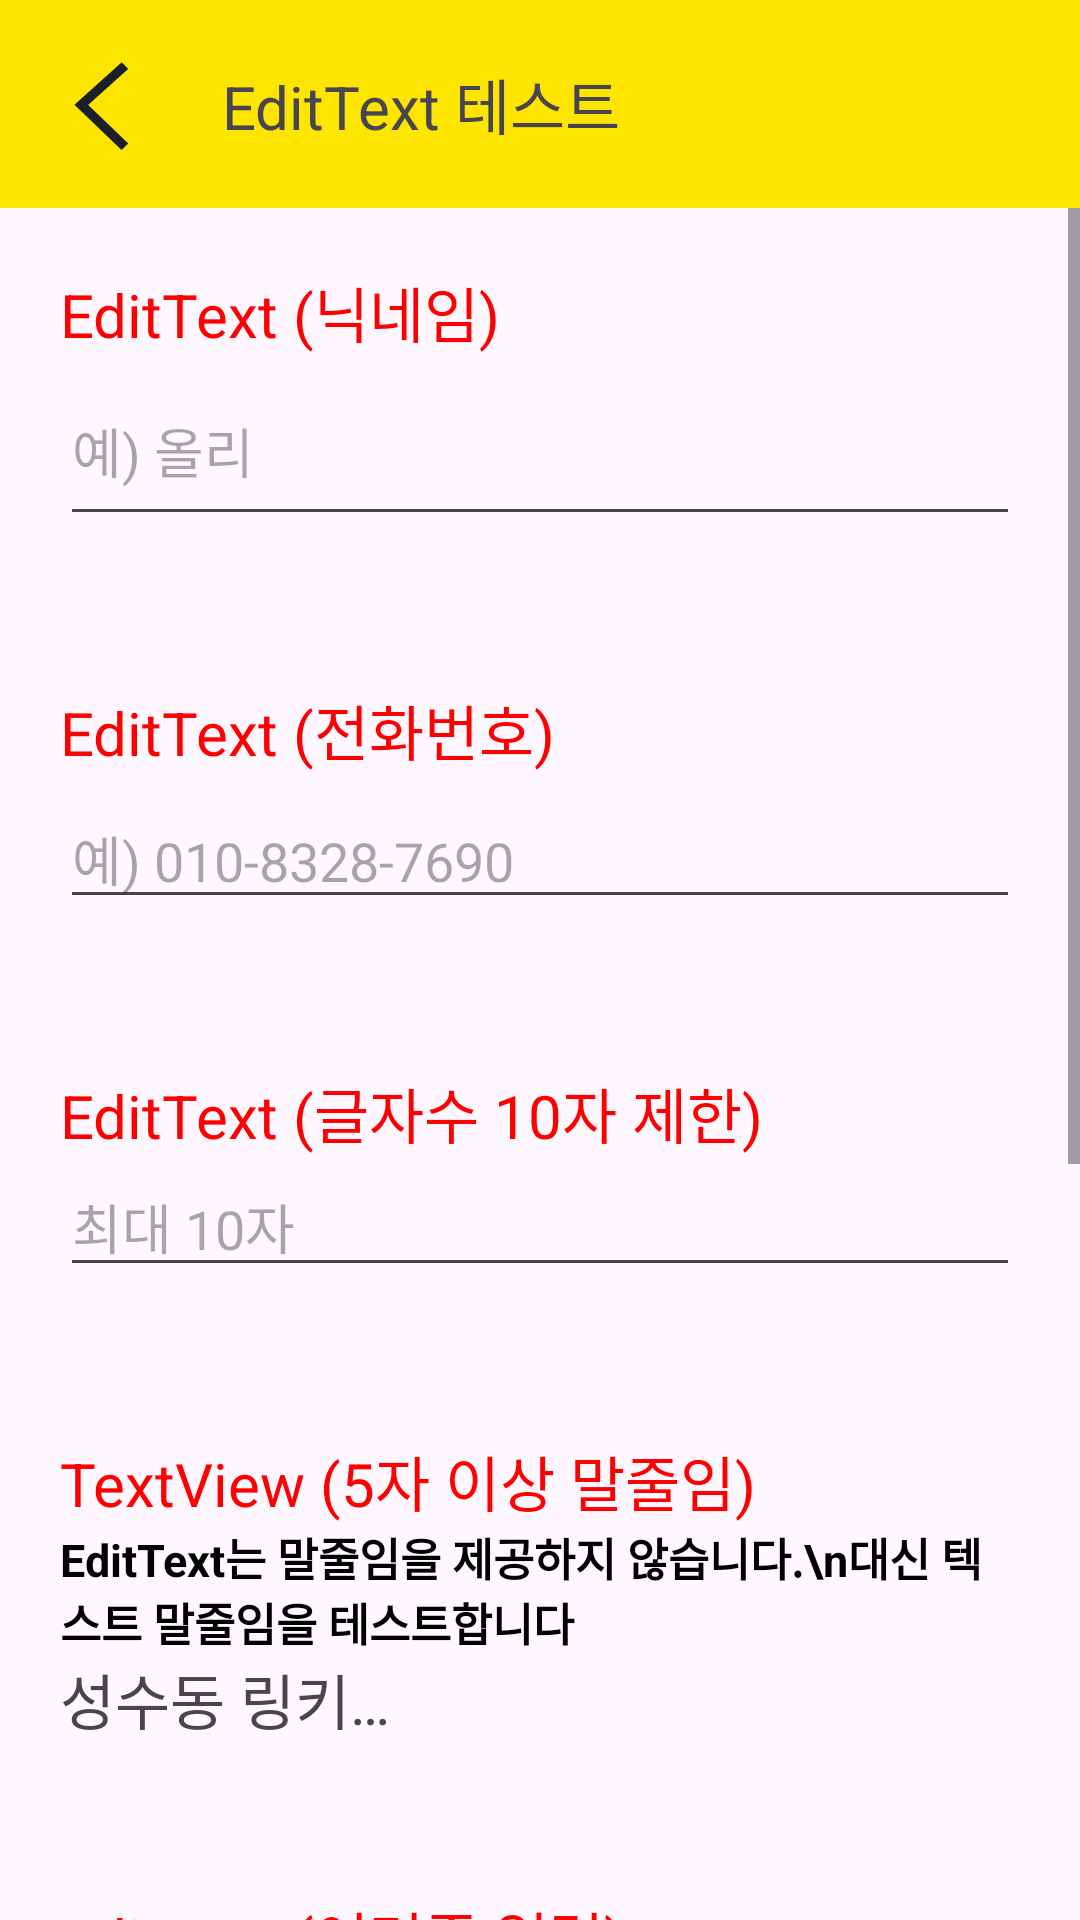

Where icons sit on this 1080 × 1920 app screen, as rect(x1, y1, x2, y2):
뒤로가기: rect(74, 62, 128, 150)
